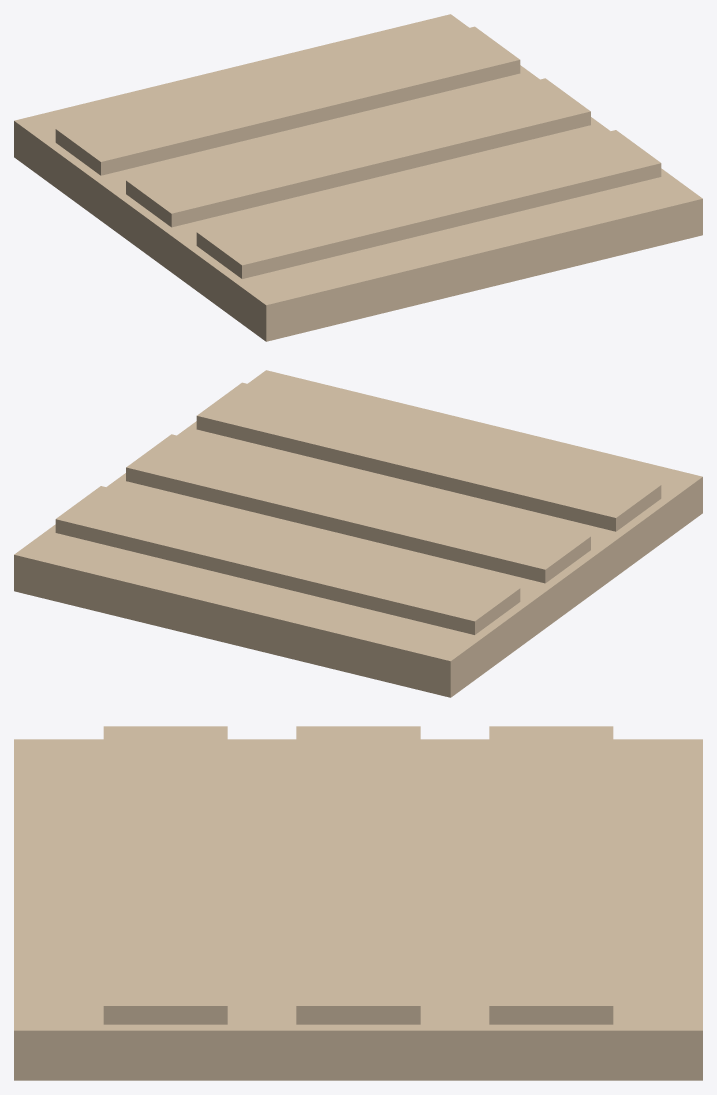
File: soil_dry.glb
3 views of the same model, one above another, from view 1: azimuth 30°, elevation 25°; view 2: azimuth 150°, elevation 25°; view 3: azimuth 270°, elevation 25° (orthographic). The views are drawn at different scales.
Visible parts, largest first — view 1: SoilDry; view 2: SoilDry; view 3: SoilDry.
Part boxes in pixels (x1=…): SoilDry: x1=14, y1=14, x2=702, y2=341; SoilDry: x1=14, y1=370, x2=702, y2=697; SoilDry: x1=14, y1=726, x2=702, y2=1080.
Bounding box in the file's own units: 1 × 0.11 × 1.
